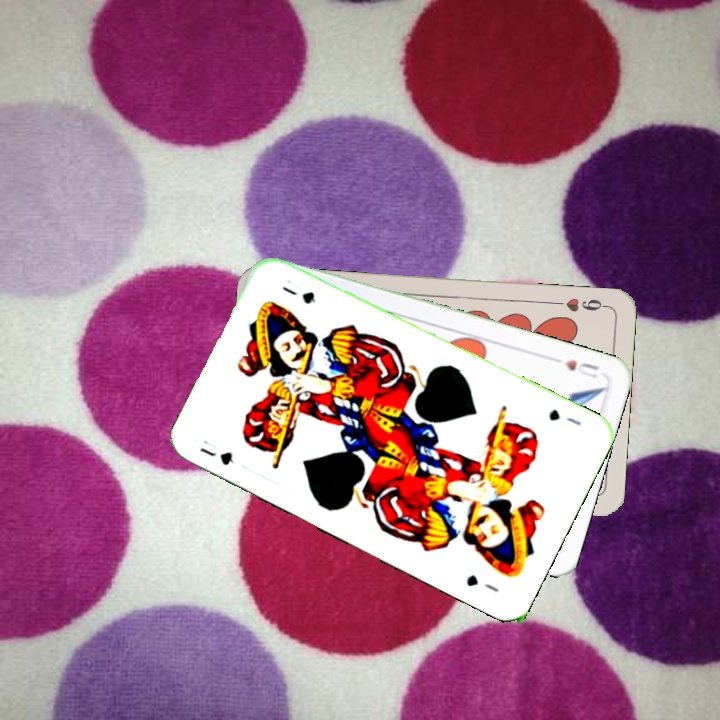GU: (195, 443, 237, 468), (544, 404, 584, 428)
H9: (551, 293, 610, 315)
HU: (560, 355, 601, 381)
